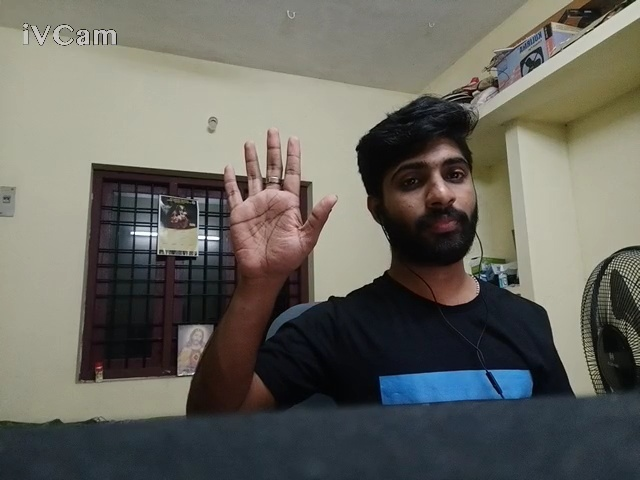Hello: (195, 122, 351, 291)
